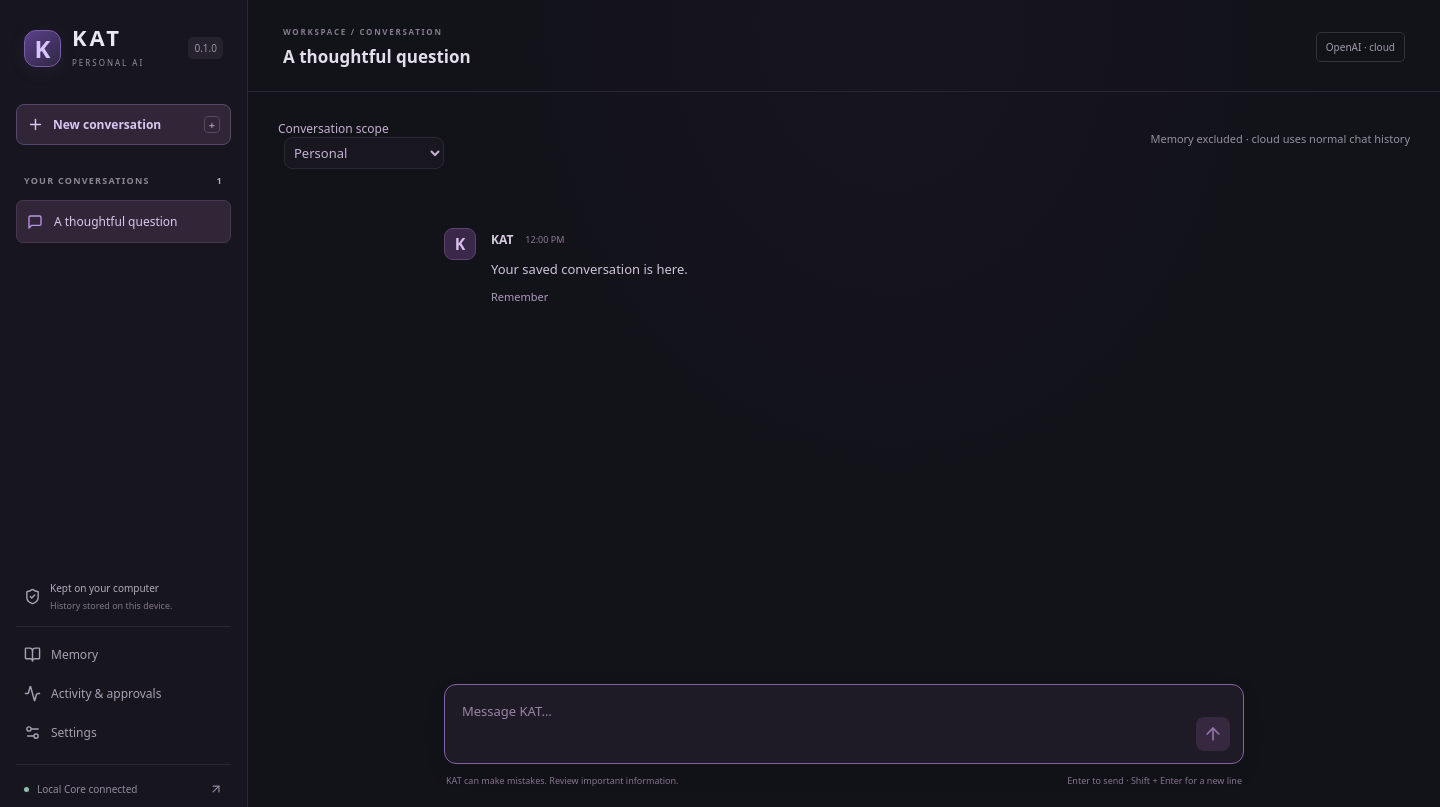
Test: Windows provider credential controls › disables model conversation after removing the only configured key
Expected: the text "Your saved conversation is here." is shown, [491,260,688,278]
Click the button "Settings": (124, 732) [16,713,231,752]
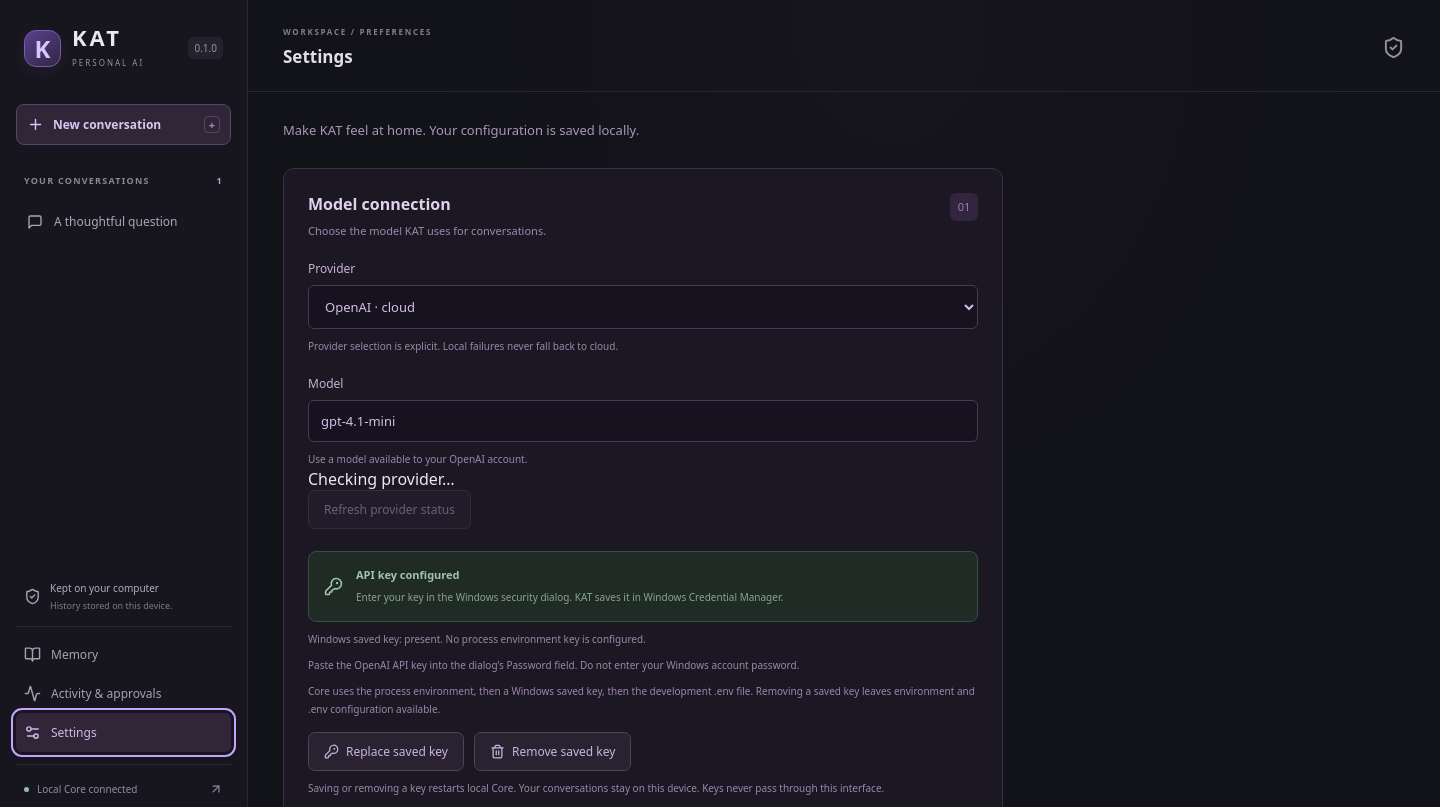
Click the button "Remove saved key": (553, 751) [474,732,631,771]
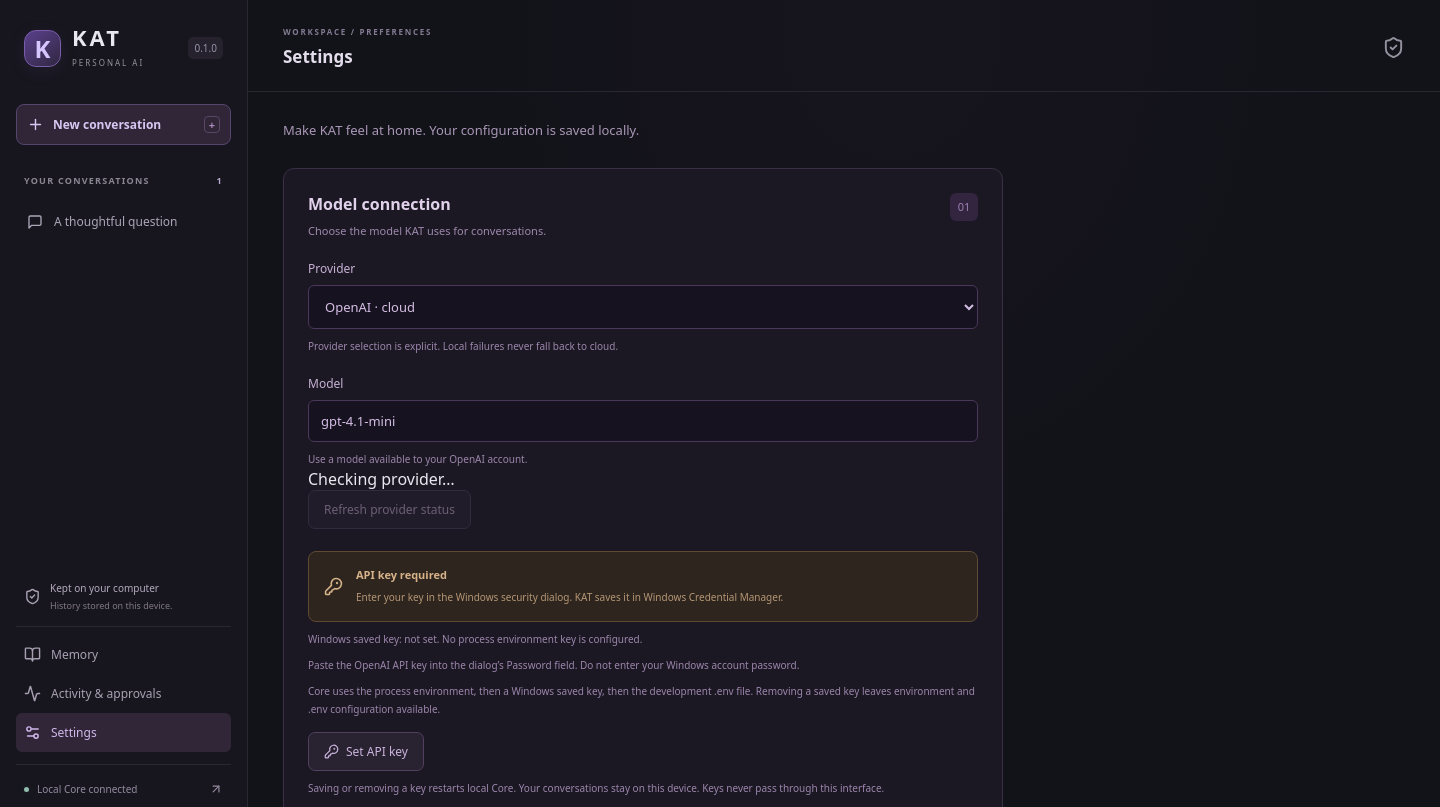
Now the text "API key required" is shown, box [356,567,447,582]
Click the button "A thoughtful question": (124, 222) [16,200,231,243]
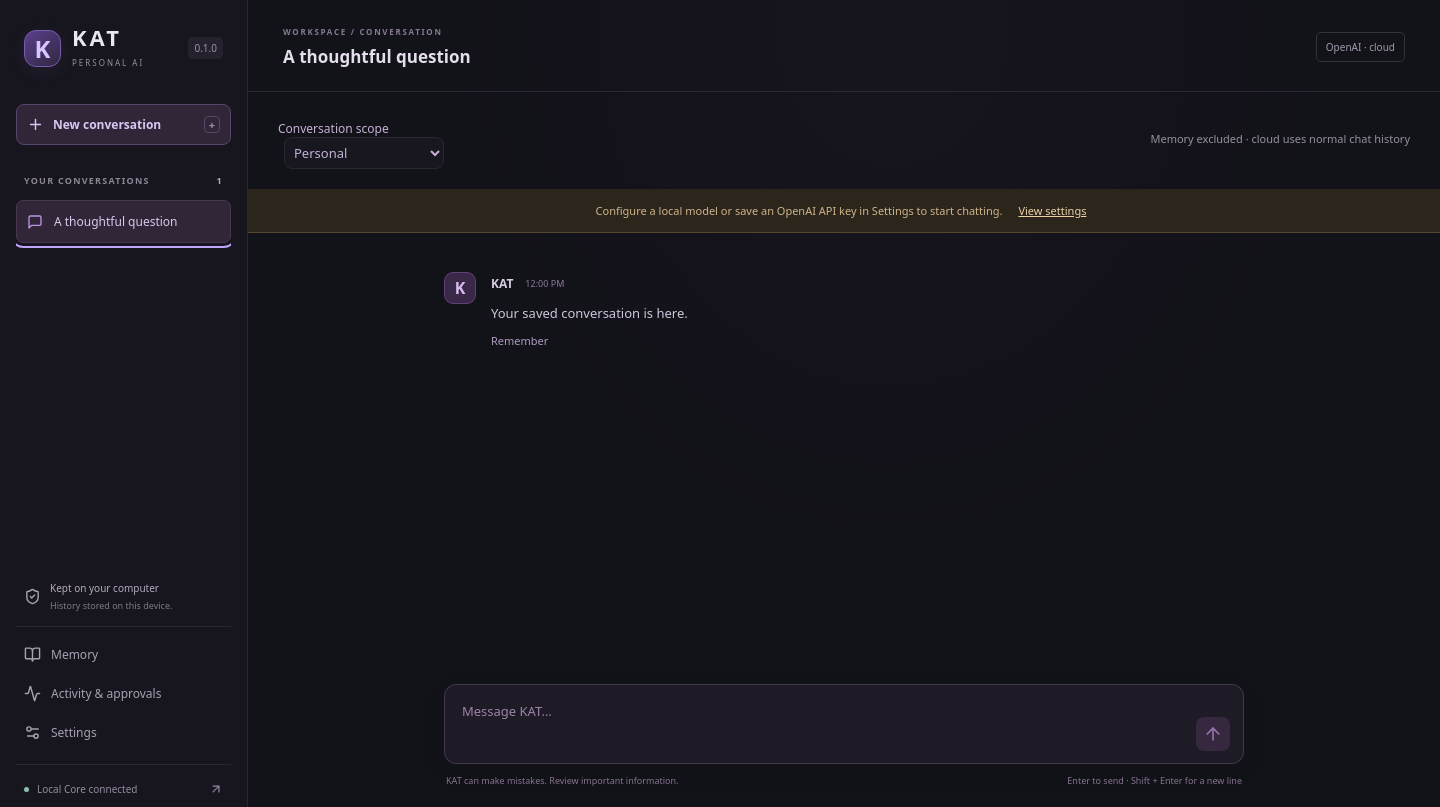
Now the text "Your saved conversation is here." is shown, box [491,304,688,322]
Now the text box labelled "Message KAT" is disabled, box [462,696,1184,750]
